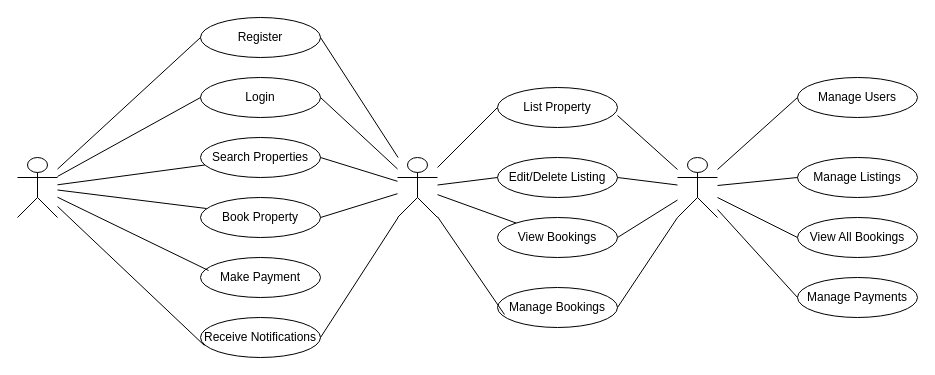
The diagram is 935 pixels wide and 375 high, and some of its shapes have lost their labels. The shapes that lost their labels are listed below. From the top down, each one's box as (x1, y1, x2, y2) in pixels, then its label:
(16, 156, 58, 218): Guest
(396, 156, 438, 218): Host
(676, 156, 718, 218): Admin
